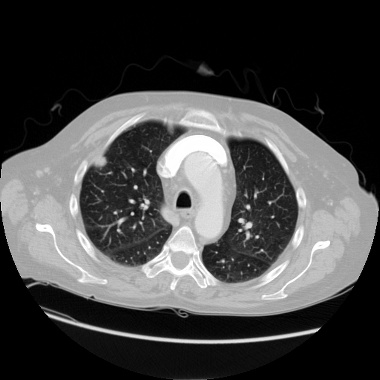PN: (95, 156, 107, 168)
